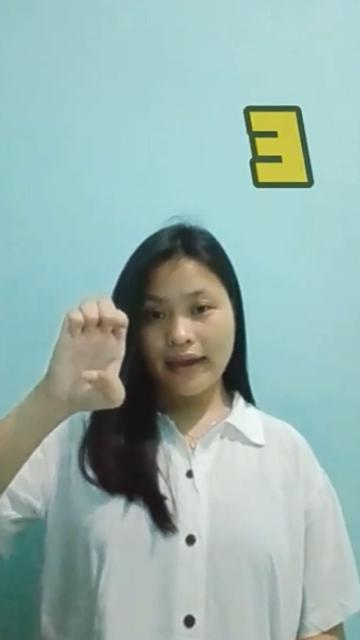E: (38, 297, 131, 423)
